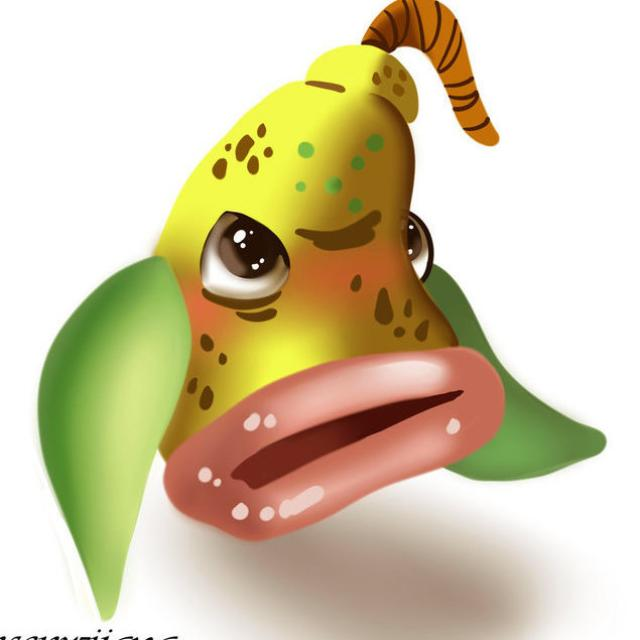Weepinbell: (87, 42, 541, 546)
